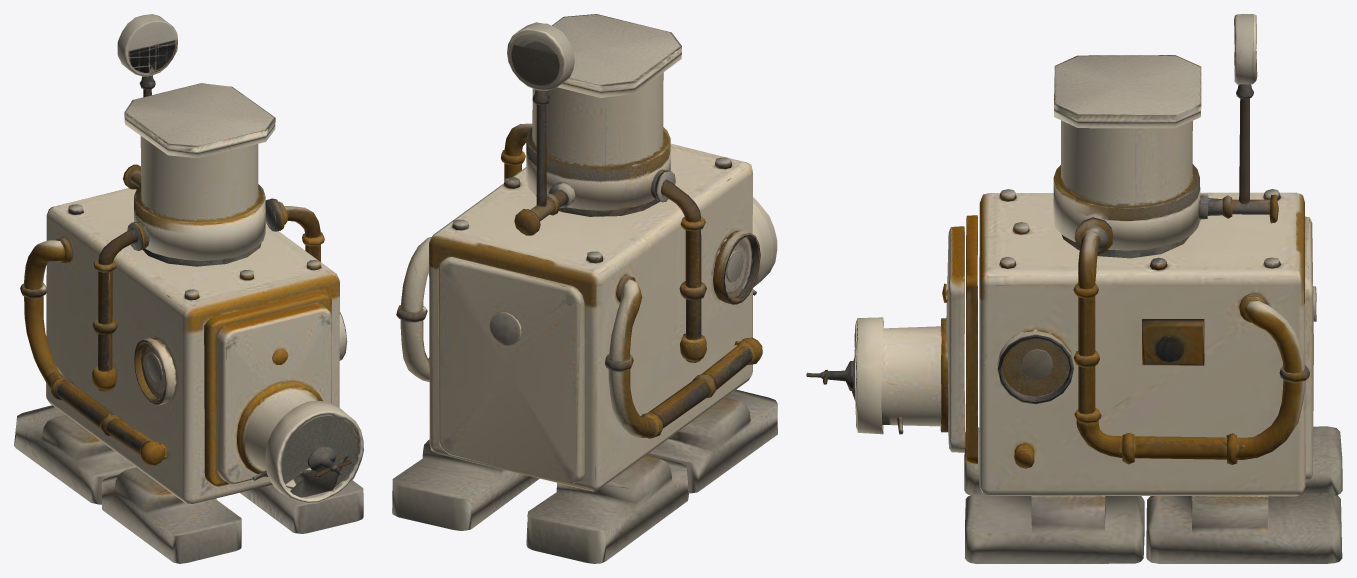
Rendered from reclaimer.glb.
The picture shows the model from 3 angles, left to right: view 1: azimuth 30°, elevation 25°; view 2: azimuth 150°, elevation 25°; view 3: azimuth 270°, elevation 25°; orthographic projection. The views are drawn at different scales.
Parts seen in each view (by area): view 1: reclaimer; view 2: reclaimer; view 3: reclaimer.
Part boxes in pixels (x1,y1,x2,y2): reclaimer: (14,14,363,563); reclaimer: (392,14,777,563); reclaimer: (806,14,1342,563).
Bounding box in the file's own units: 1.04 × 2.02 × 2.
Materials: 1 (1 with a texture image).
